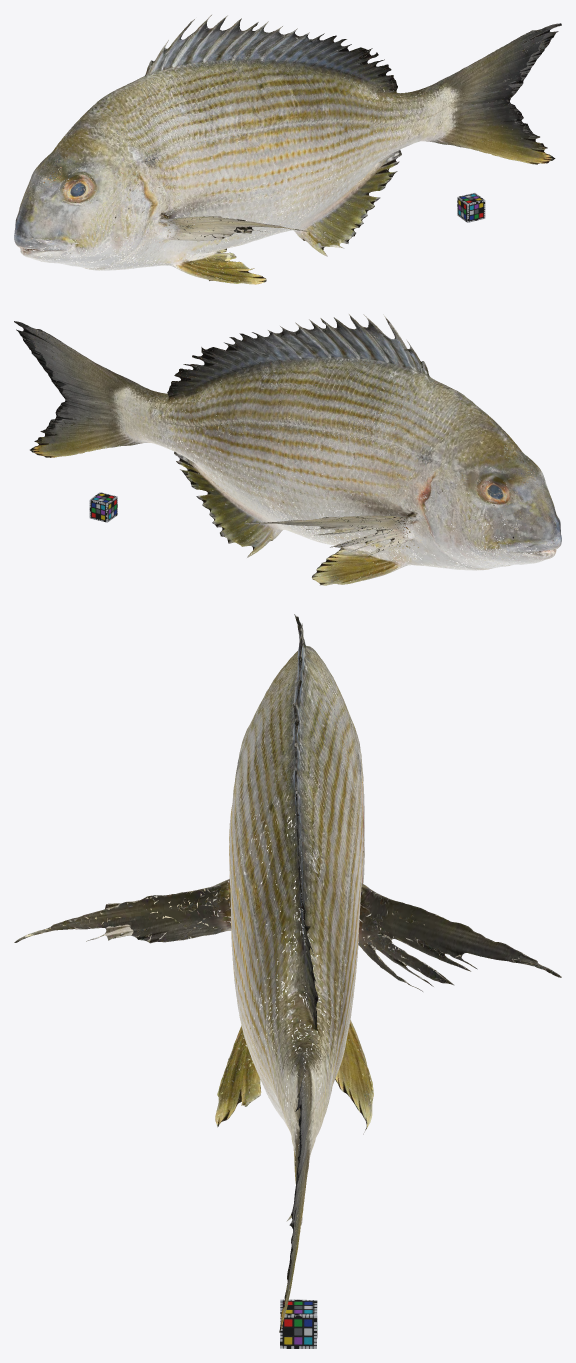
Rendered from scan_goldlined.glb.
The picture shows the model from 3 angles, top to bottom: view 1: azimuth 30°, elevation 25°; view 2: azimuth 150°, elevation 25°; view 3: azimuth 270°, elevation 25°; orthographic projection. The views are drawn at different scales.
Parts seen in each view (by area): view 1: Object_6, Object_13, Object_4; view 2: Object_13, Object_6, Object_4; view 3: Object_13, Object_6, Object_4.
Boxes of the visible parts, <box> form: Object_6: <box>14,15,561,284</box>; Object_13: <box>14,15,560,284</box>; Object_4: <box>457,192,485,222</box>; Object_13: <box>14,314,561,585</box>; Object_6: <box>15,314,560,585</box>; Object_4: <box>89,492,117,522</box>; Object_13: <box>14,615,561,1332</box>; Object_6: <box>15,614,555,1332</box>; Object_4: <box>280,1299,317,1348</box>.
Size of the model in its own units: 19.43 by 9.33 by 9.38.
3 materials, 3 textured.
